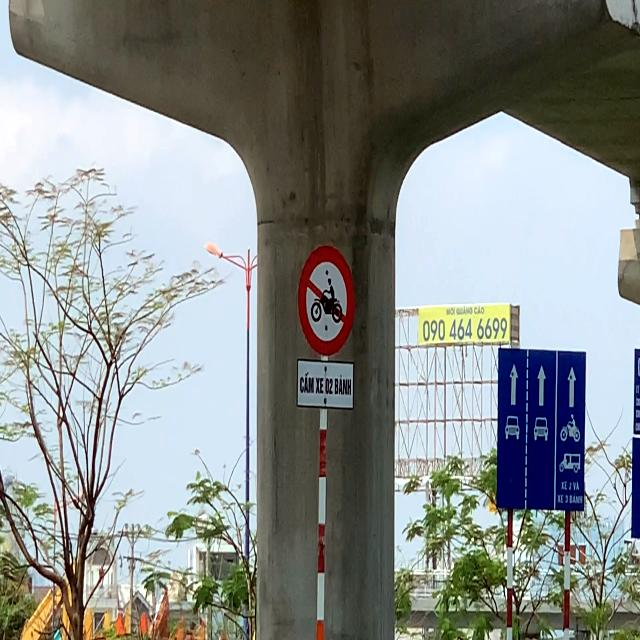P.104: (297, 240, 356, 360)
